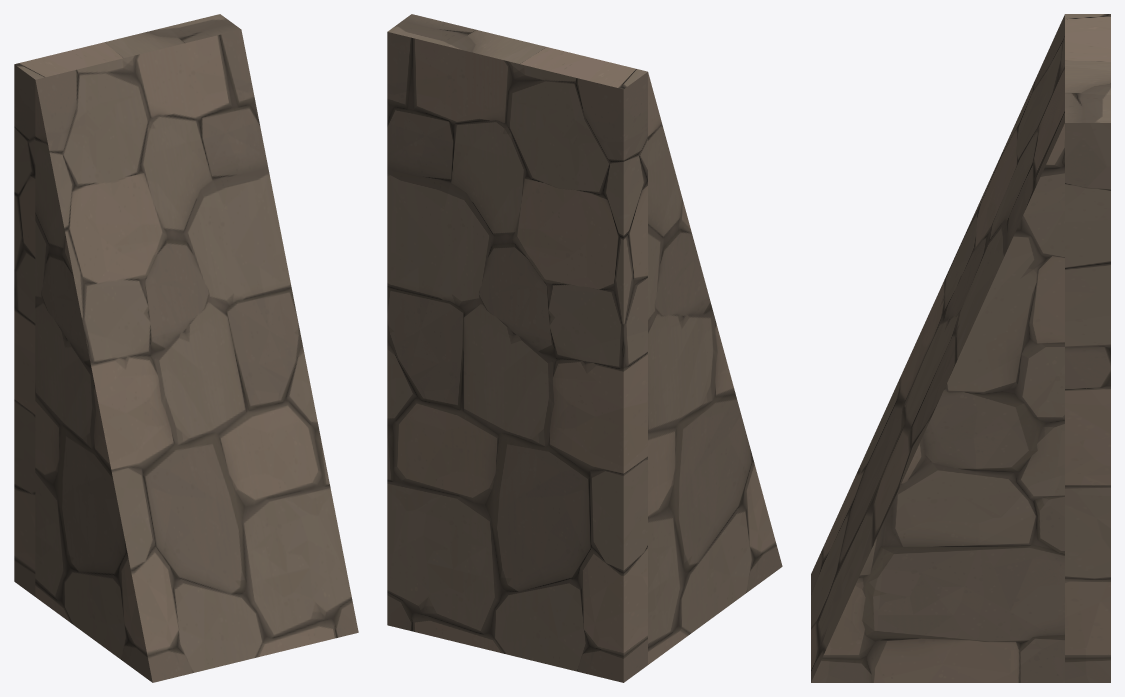
File: SM_Bld_Wall_Slope_Half_02.fbx
3 renders of one model, left to right at view 1: azimuth 30°, elevation 25°; view 2: azimuth 150°, elevation 25°; view 3: azimuth 270°, elevation 25°, orthographic. The views are drawn at different scales.
Visible parts, largest first — view 1: SM_Bld_Wall_Slope_Half_02; view 2: SM_Bld_Wall_Slope_Half_02; view 3: SM_Bld_Wall_Slope_Half_02.
Part boxes in pixels (left/top/right/bottom): SM_Bld_Wall_Slope_Half_02: left=14, top=14, right=358, bottom=682; SM_Bld_Wall_Slope_Half_02: left=387, top=14, right=782, bottom=682; SM_Bld_Wall_Slope_Half_02: left=811, top=14, right=1110, bottom=682.
Bounding box in the file's own units: 125 × 300 × 146.
Materials: 1 (1 with a texture image).
